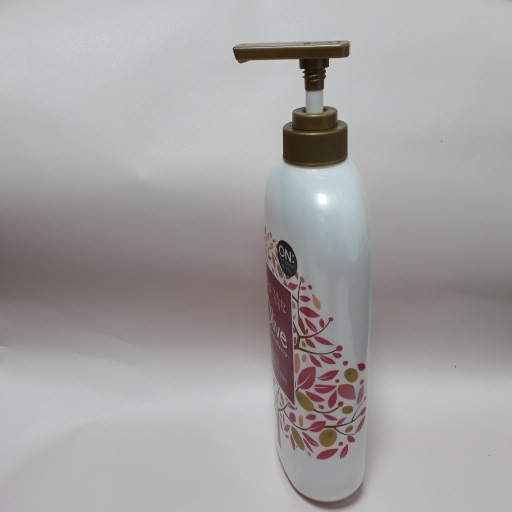Plastic_3: (233, 38, 386, 507)
